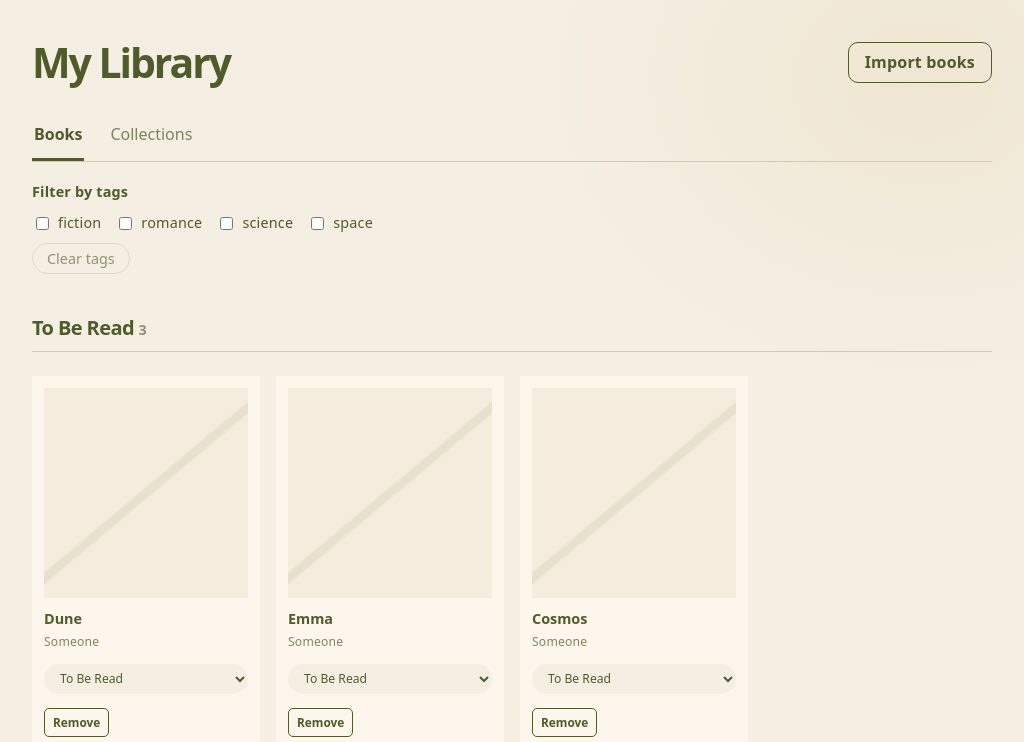
PersonalLibraryPage › restores the book and counts when deletion fails
Expected: the button "Dune" is shown, [44, 610, 82, 629]
Step 1. Click the button with aria-label "Remove Dune from my library" → (77, 722), box [44, 708, 109, 737]
Wait 6000 ms
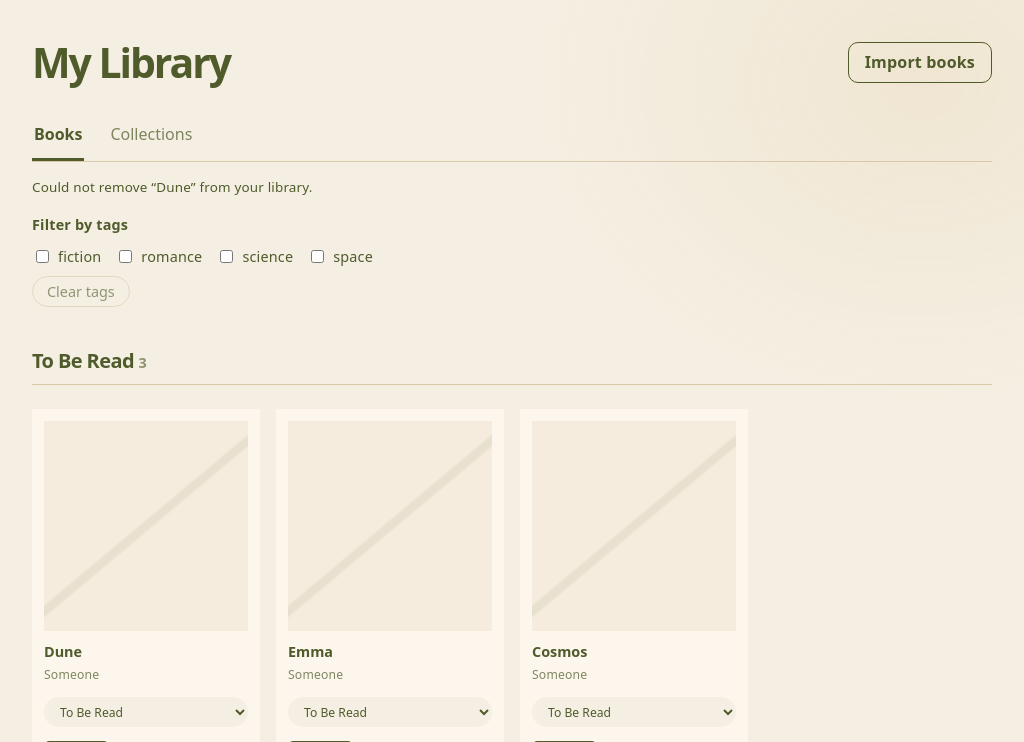
Expected: the message shows "Could not remove “Dune”", [32, 178, 313, 196]
